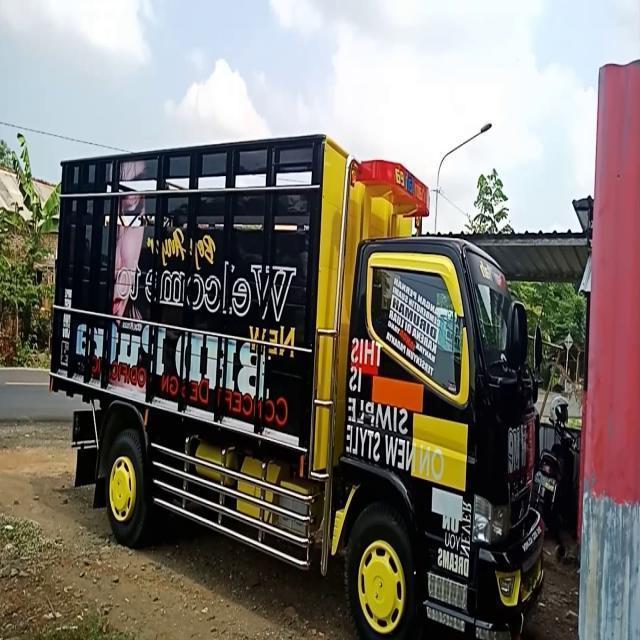truck: (48, 130, 556, 640)
